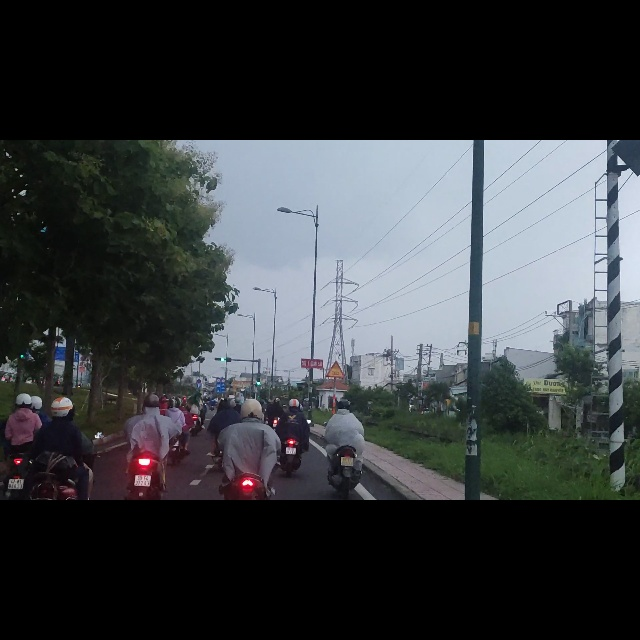bien_cam: (326, 391, 346, 423)
